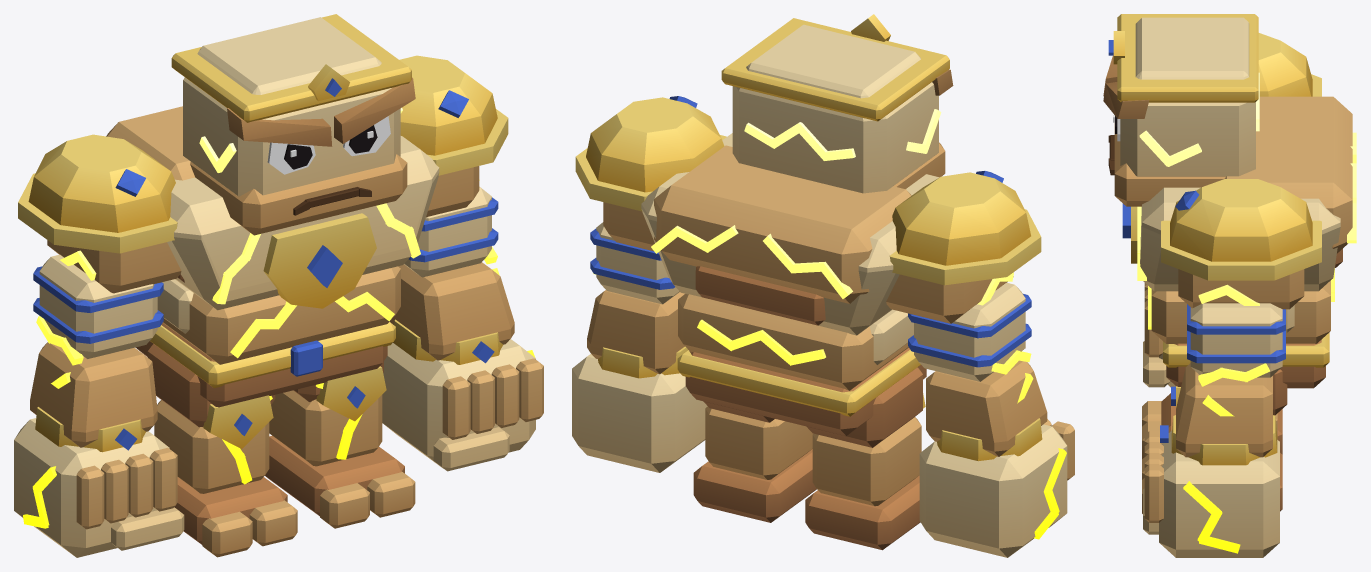
File: SandGolem.glb
3 views of the same model, side by side, from view 1: azimuth 30°, elevation 25°; view 2: azimuth 150°, elevation 25°; view 3: azimuth 270°, elevation 25° (orthographic). The views are drawn at different scales.
Visible parts, largest first — view 1: SandGolem; view 2: SandGolem; view 3: SandGolem.
Boxes of the visible parts, box(x1,y1,x2,y2) form: SandGolem: box(14, 14, 543, 557); SandGolem: box(572, 14, 1074, 557); SandGolem: box(1103, 14, 1356, 557).
Bounding box in the file's own units: 1.07 × 1.01 × 0.523.
Materials: 1 (1 with a texture image).
